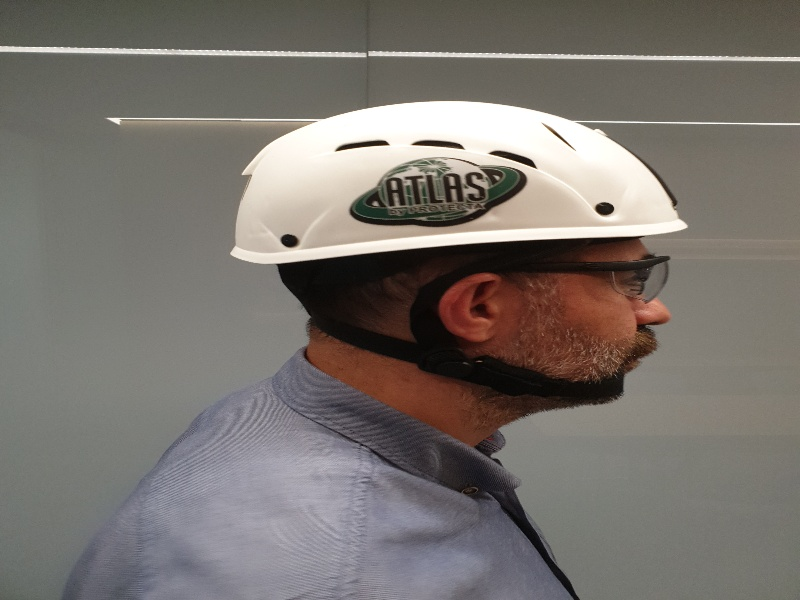Baret: (232, 98, 695, 255)
Gozluk: (485, 257, 666, 308)
